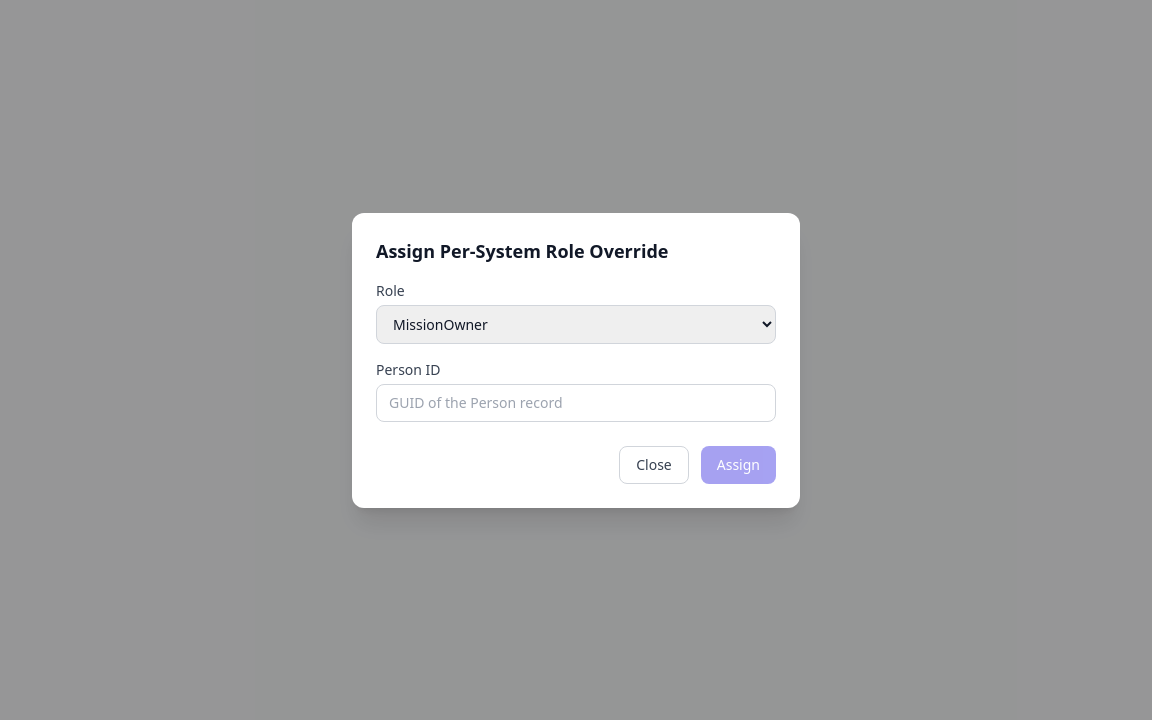
it: AssignRoleDialog › renders inline error block when server returns 403 RBAC_ROLE_ASSIGN_DENIED
Type "33333333-3333-3333-3333-333333333333" into the field labelled "Person ID" at coordinates (576, 402), box [376,384,776,422]
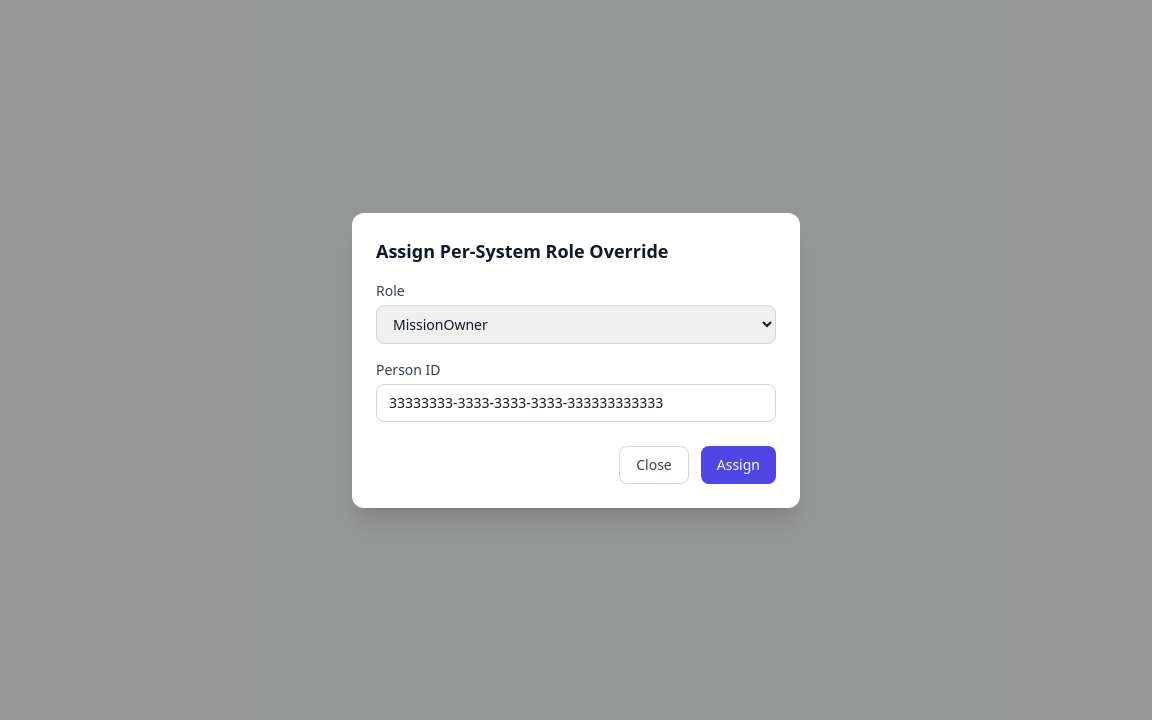
Click the button "Assign" at coordinates (738, 464), box [701,446,776,484]
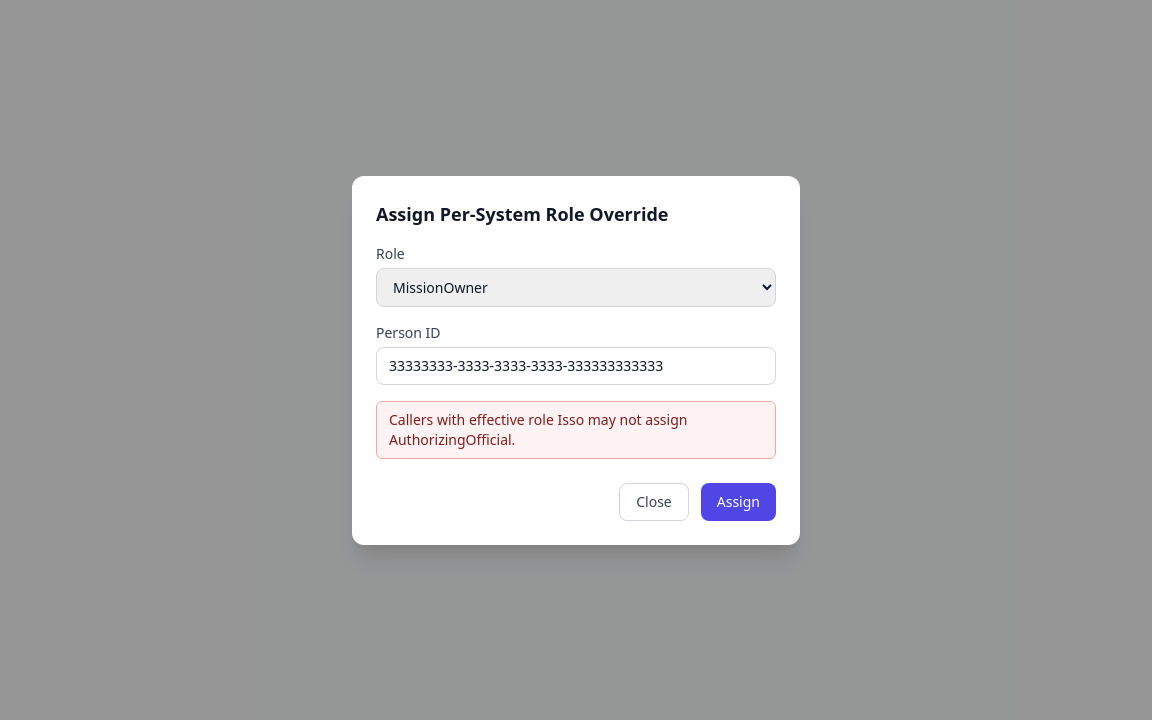
expect the text "Callers with effective role Isso may not assign AuthorizingOfficial." is shown: met, box [376,400,776,458]
